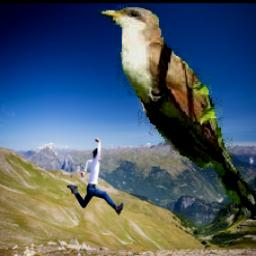Cuckoo: (97, 6, 256, 221)
